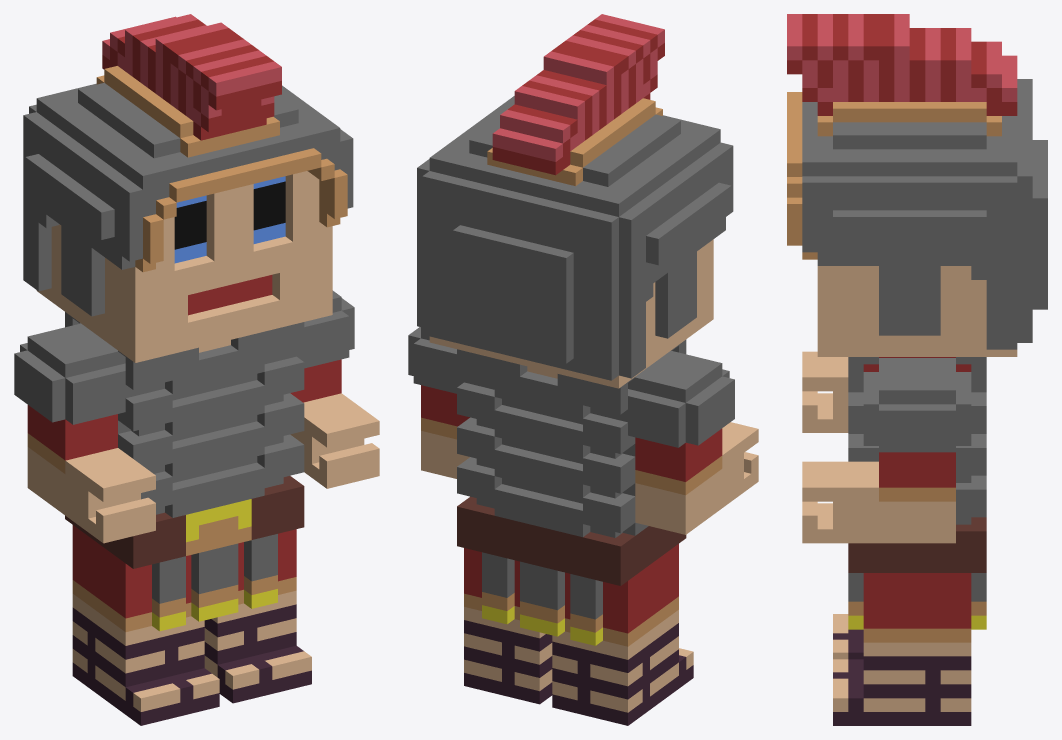
File: Legionnaire_Carrying.dae
3 views of the same model, side by side, from view 1: azimuth 30°, elevation 25°; view 2: azimuth 150°, elevation 25°; view 3: azimuth 270°, elevation 25° (orthographic). The views are drawn at different scales.
Parts seen in each view (by area): view 1: LegionnaireCarrying; view 2: LegionnaireCarrying; view 3: LegionnaireCarrying.
Boxes of the visible parts, bbox=[...] form: LegionnaireCarrying: bbox=[14, 14, 379, 725]; LegionnaireCarrying: bbox=[408, 14, 758, 725]; LegionnaireCarrying: bbox=[787, 14, 1047, 725].
Bounding box in the file's own units: 23 × 17 × 47.
Materials: 1 (1 with a texture image).
